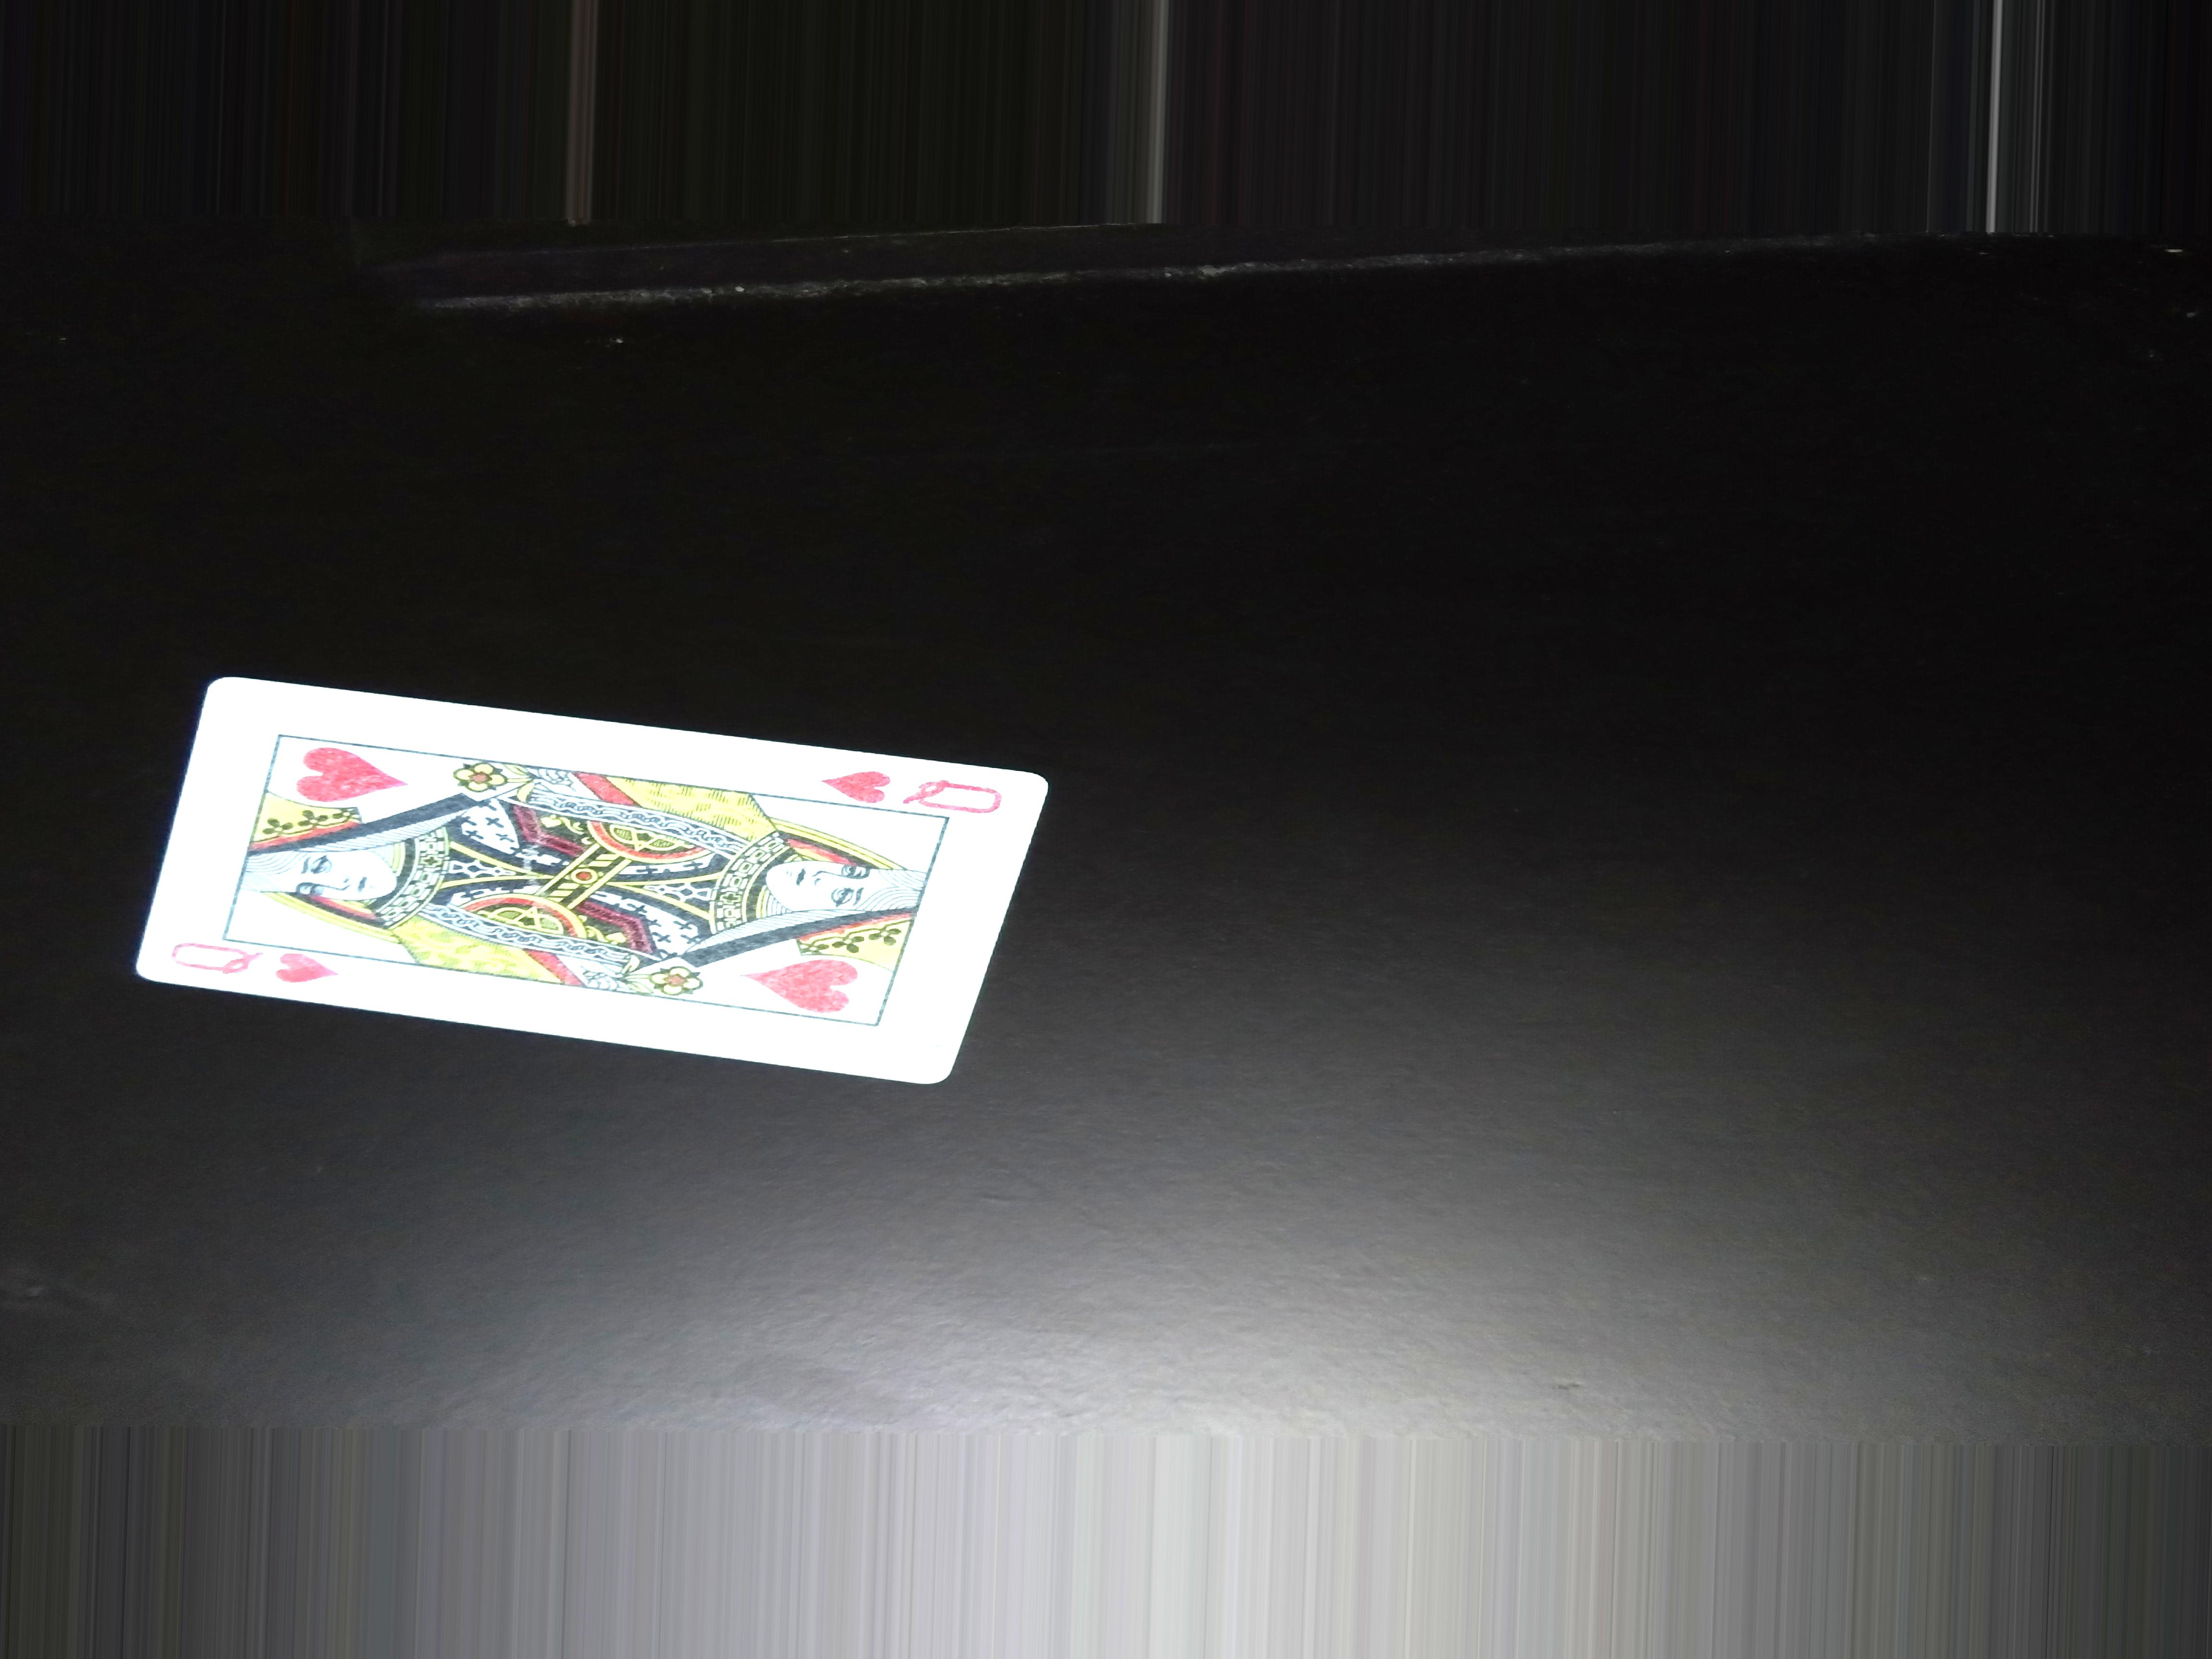QH: (820, 756, 1033, 829)
